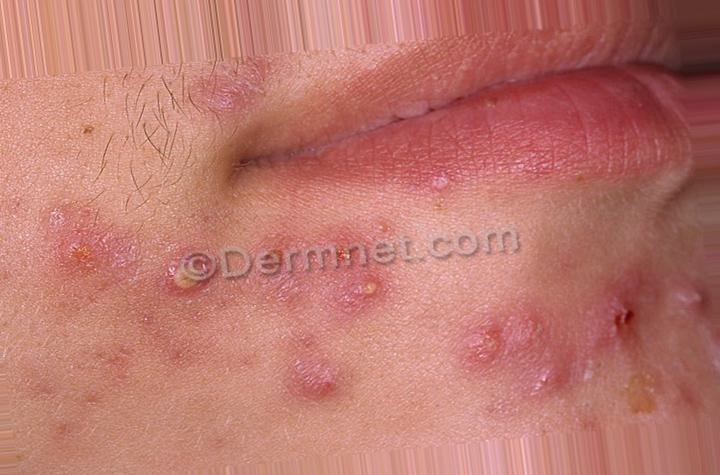Acne: (49, 183, 711, 437)
